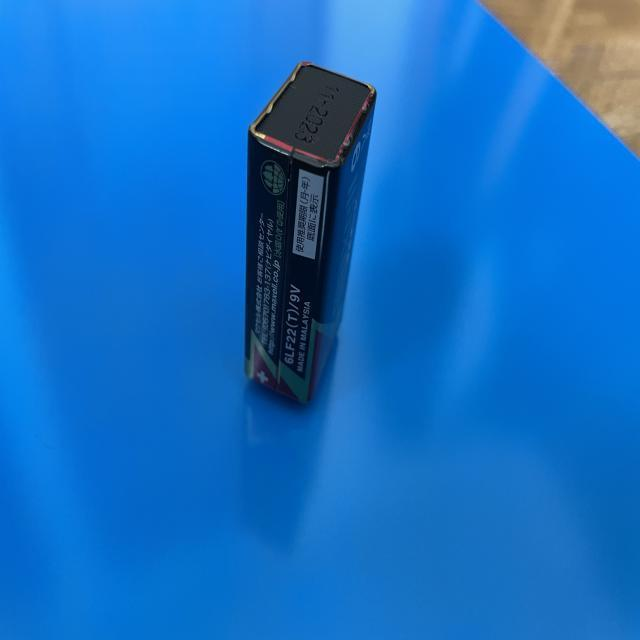9V: (244, 59, 378, 408)
